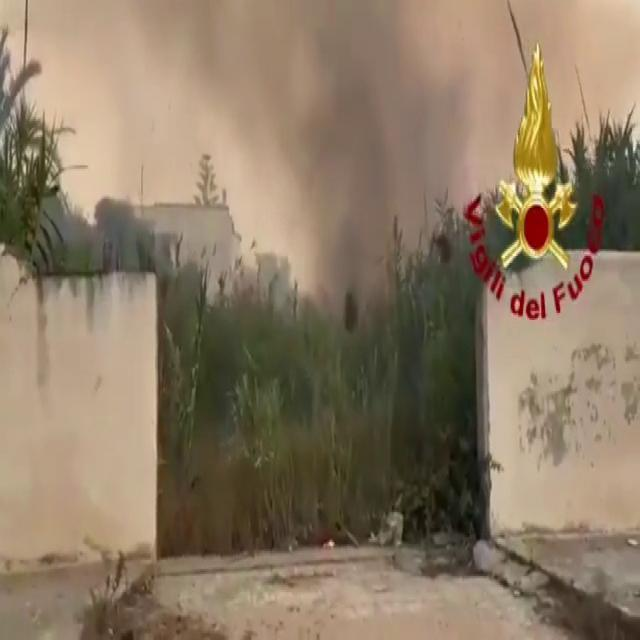Smoke: (222, 1, 473, 305)
